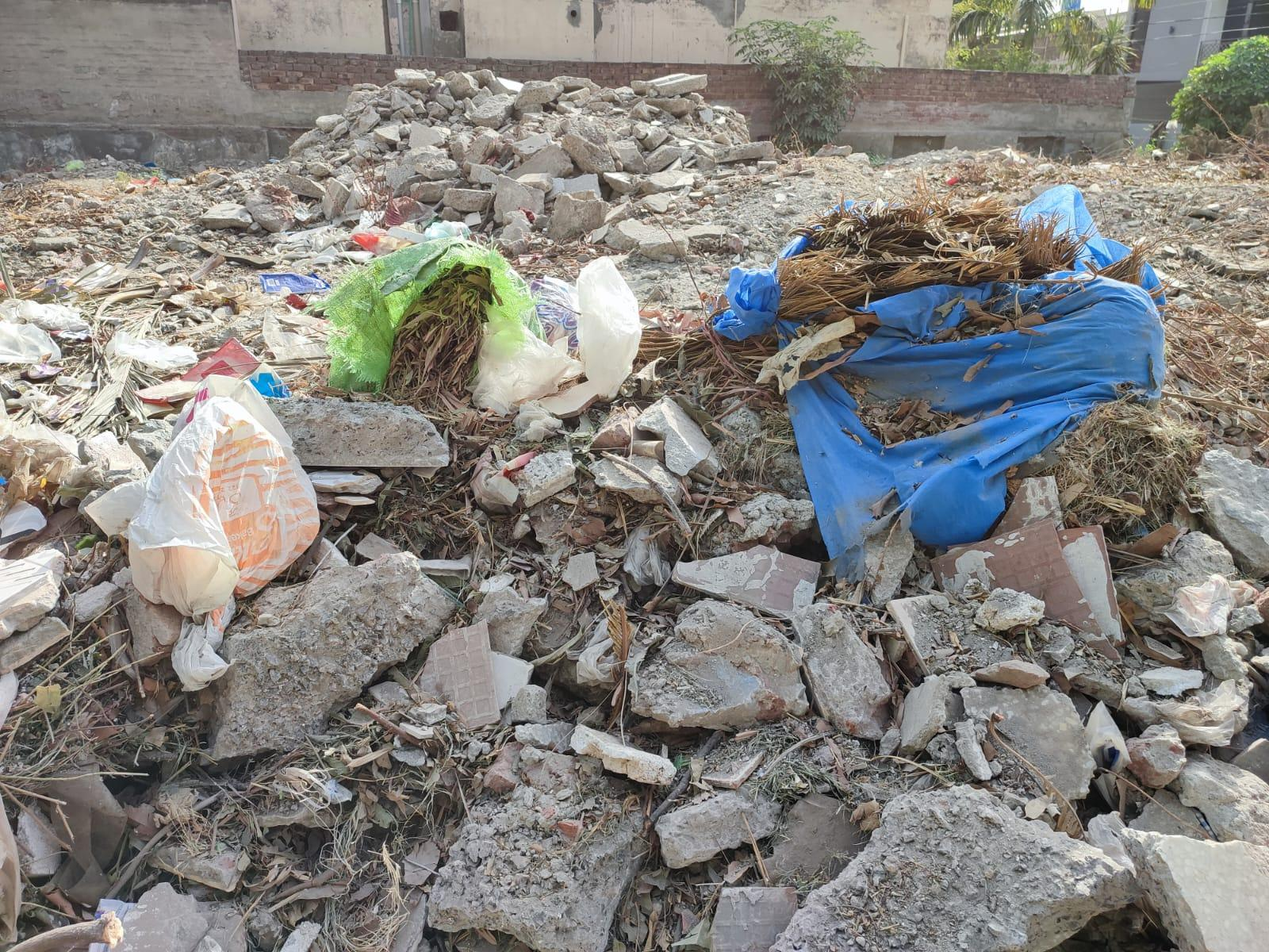garbage: (70, 236, 601, 665), (699, 167, 1207, 573)
